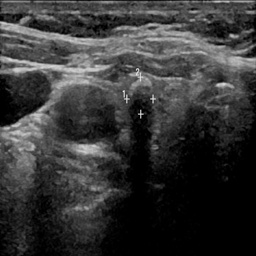mass: (125, 78, 154, 119)
